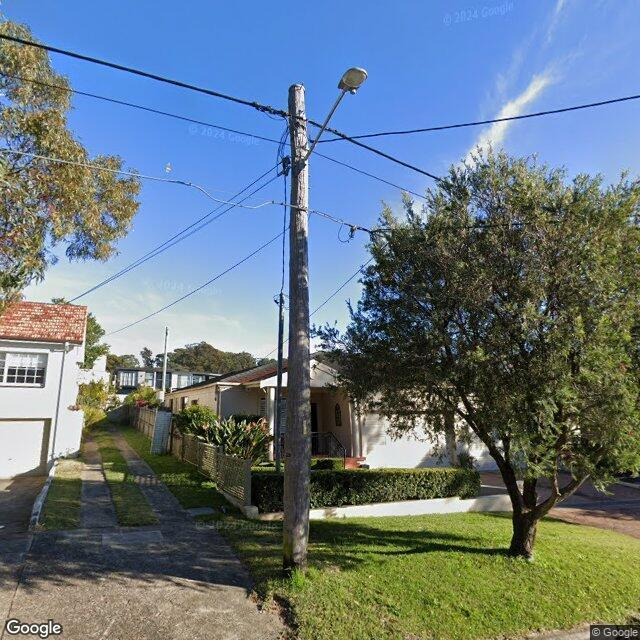streetlight: (298, 66, 370, 170)
timber-pole: (282, 84, 311, 568), (160, 326, 168, 391)
